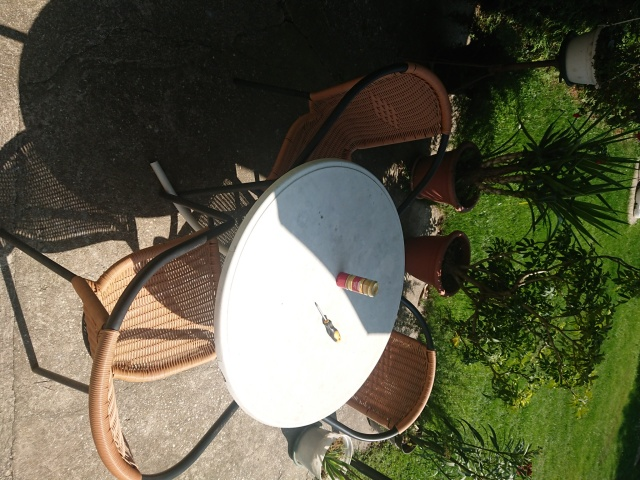Kotanyi Curry Spices Mix 70g: (335, 269, 380, 298)
